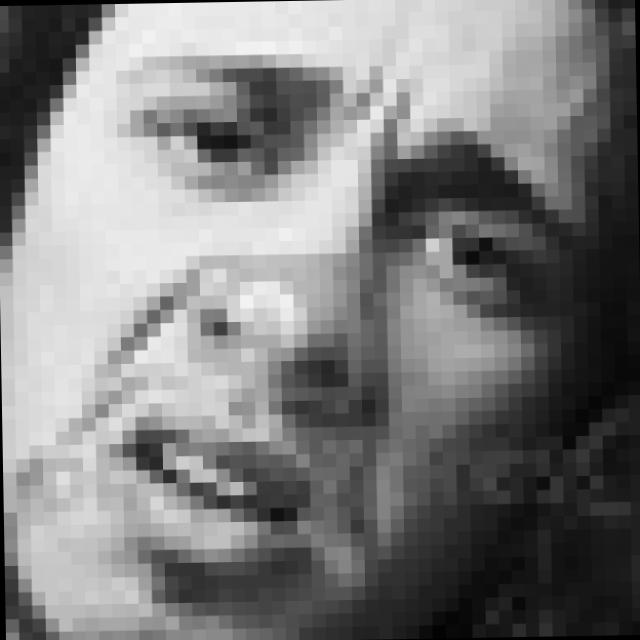disgust: (86, 49, 570, 590)
